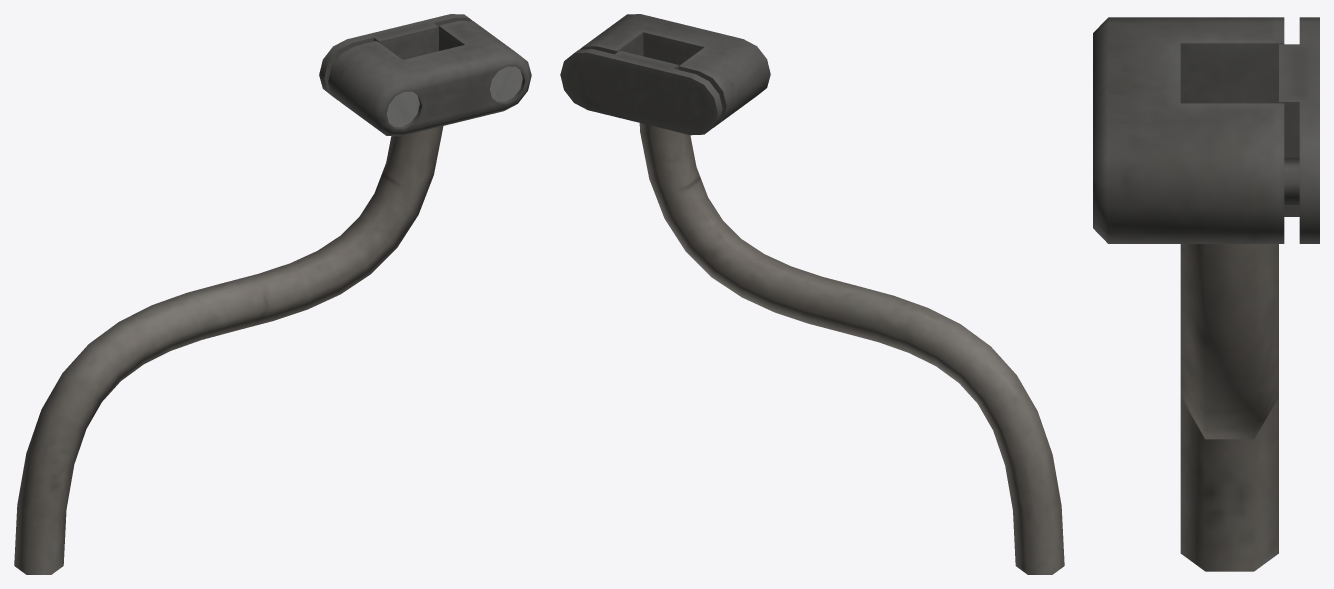
The model's file is cable_cable_scurve_1.fbx.
3 views of the same model, side by side, from view 1: azimuth 30°, elevation 25°; view 2: azimuth 150°, elevation 25°; view 3: azimuth 270°, elevation 25° (orthographic). The views are drawn at different scales.
Visible parts, largest first — view 1: modular_electric_cables__cable_scurve_1; view 2: modular_electric_cables__cable_scurve_1; view 3: modular_electric_cables__cable_scurve_1.
Boxes of the visible parts, x1,y1,x2,y2 form: modular_electric_cables__cable_scurve_1: [14, 14, 531, 574]; modular_electric_cables__cable_scurve_1: [560, 14, 1064, 574]; modular_electric_cables__cable_scurve_1: [1093, 17, 1319, 571].
Size of the model in its own units: 0.1257 by 0.1073 by 0.0259.
